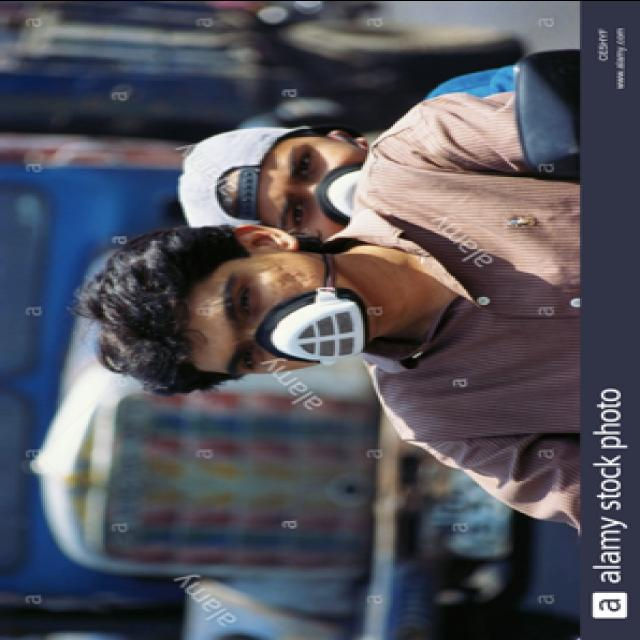with_mask: (212, 253, 374, 376), (266, 137, 368, 235)
